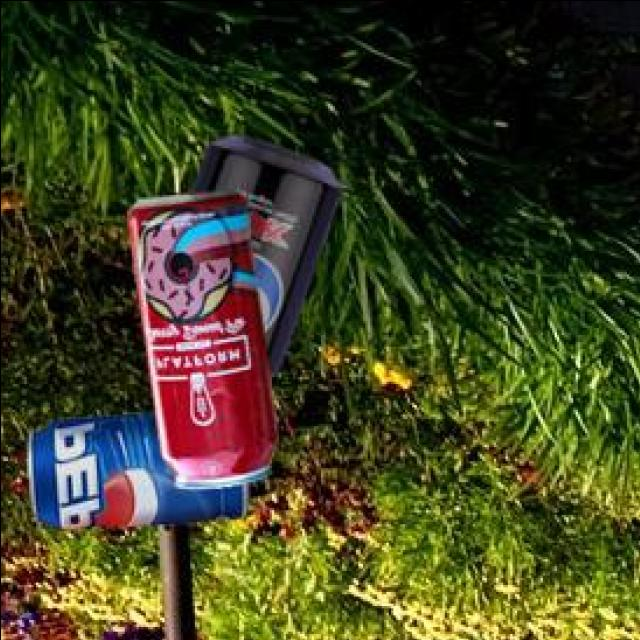logam: (123, 193, 272, 492), (188, 139, 338, 380), (25, 417, 243, 531)
